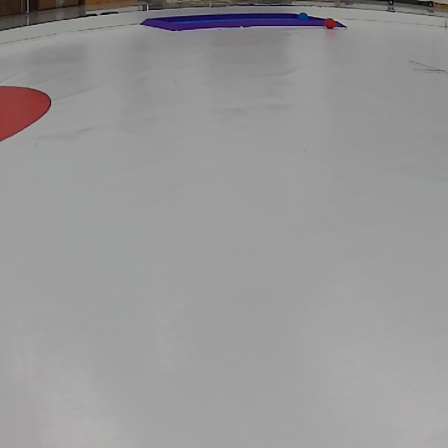blue: (299, 13, 309, 23)
blue_aim: (137, 8, 349, 33)
red: (325, 17, 334, 28)
red_base: (1, 80, 54, 149)
